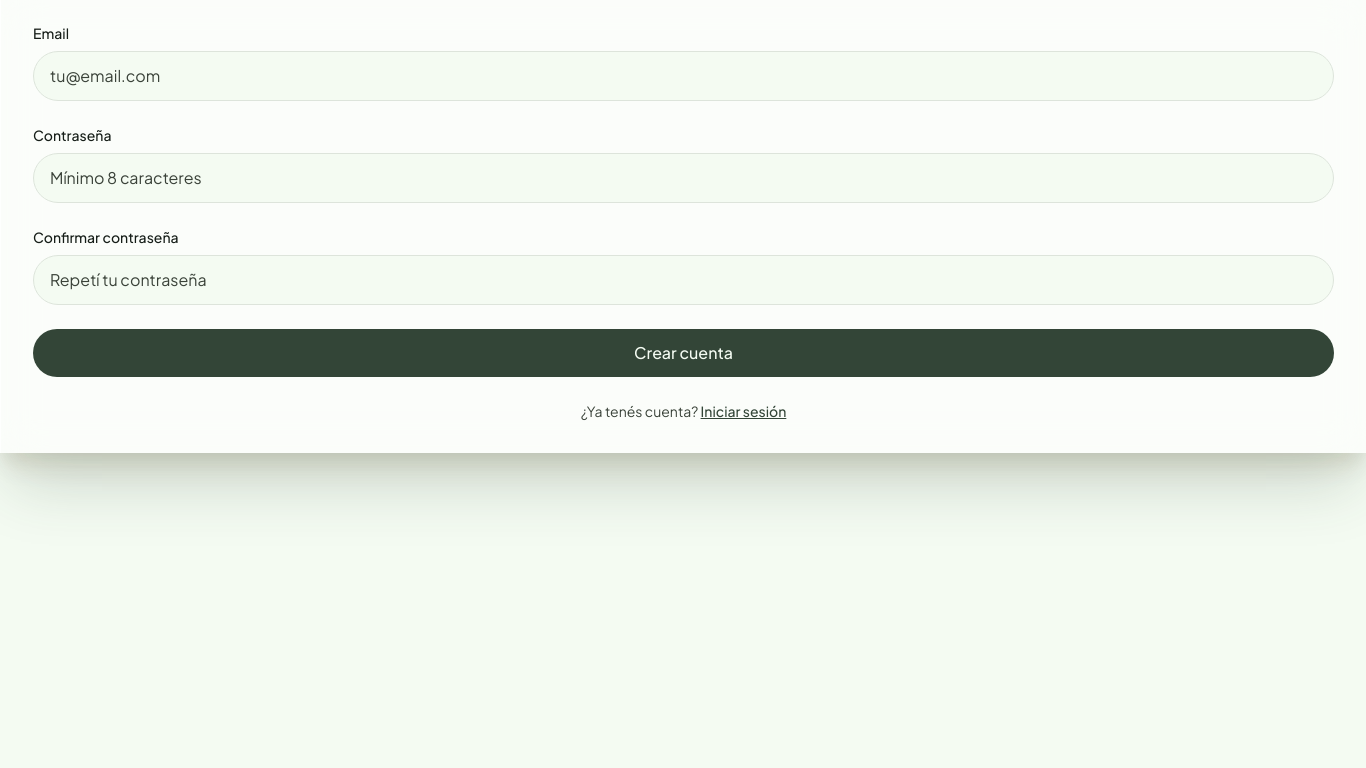
Test: RegisterForm component › shows error when password is shorter than 8 characters
Type "a@b.com" into the field labelled "Email".
click(684, 76); type("a@b.com")  # box [33,51,1334,101]
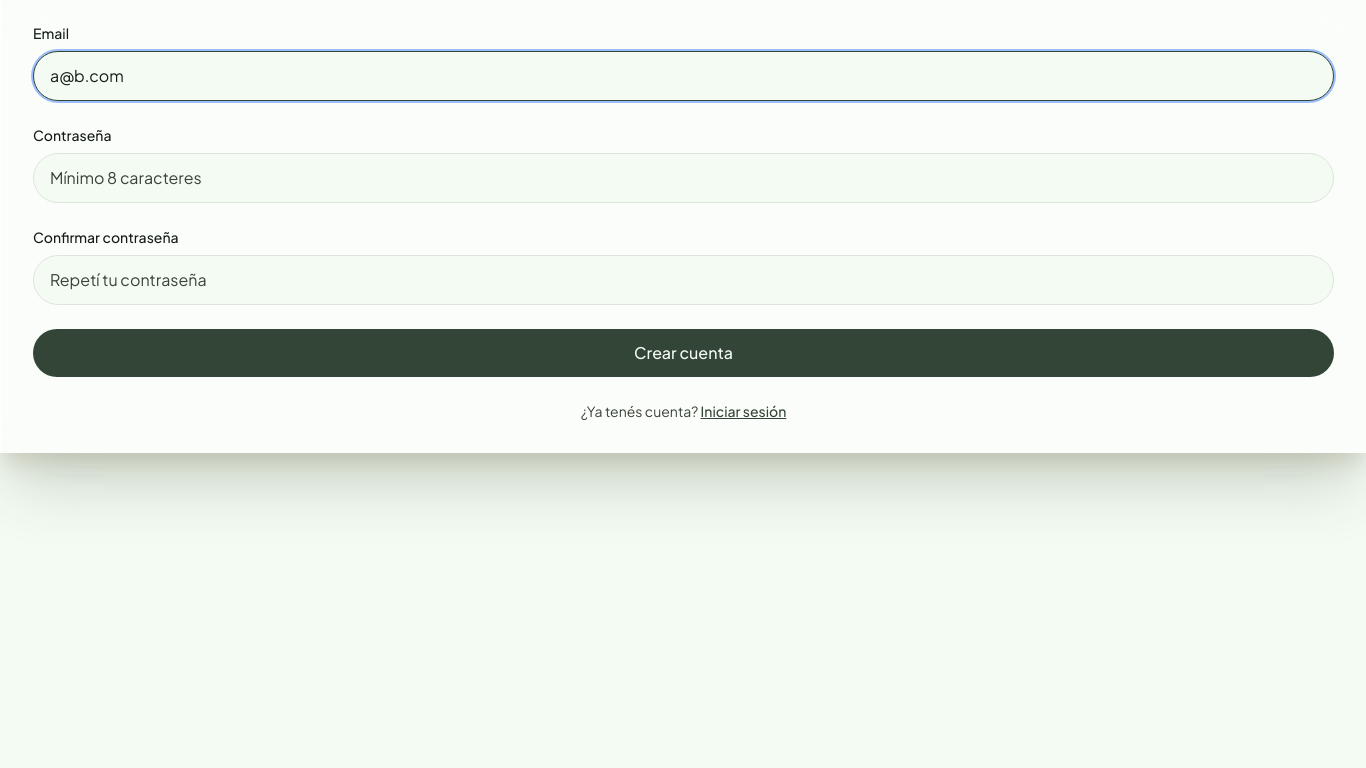
Type "short" into the password field labelled "Contraseña".
click(684, 178); type("short")  # box [33,153,1334,203]
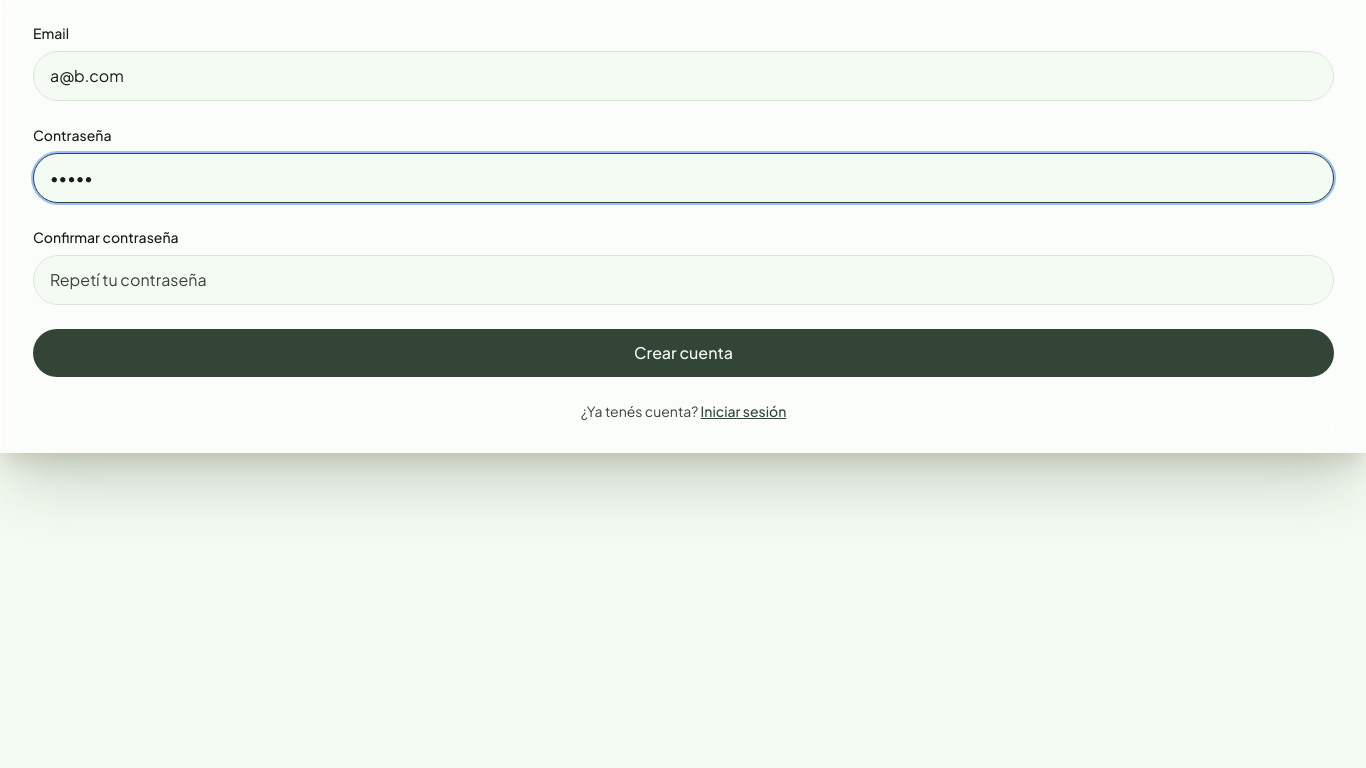
Type "short" into the password field labelled "Confirmar contraseña".
click(684, 280); type("short")  # box [33,255,1334,305]
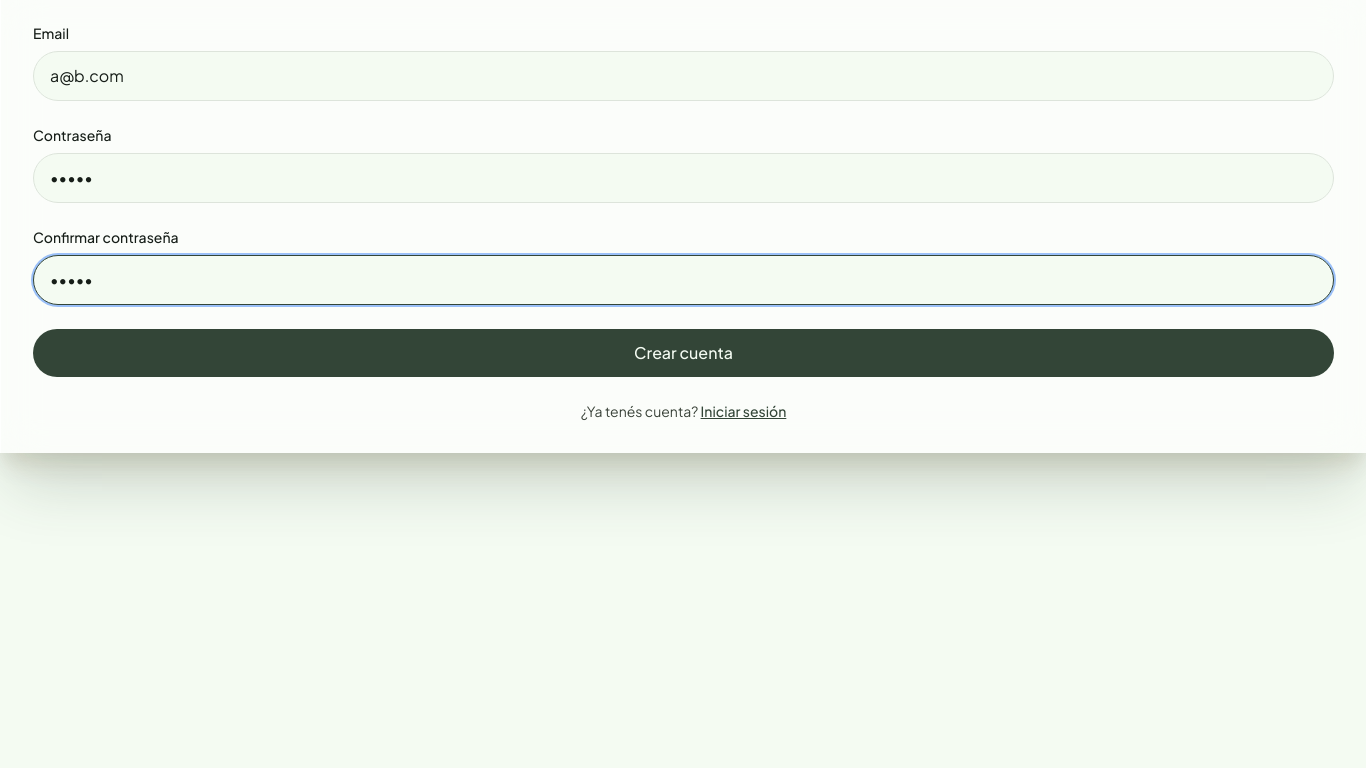
Click the button "Crear cuenta".
click(684, 353)  # box [33,329,1334,377]
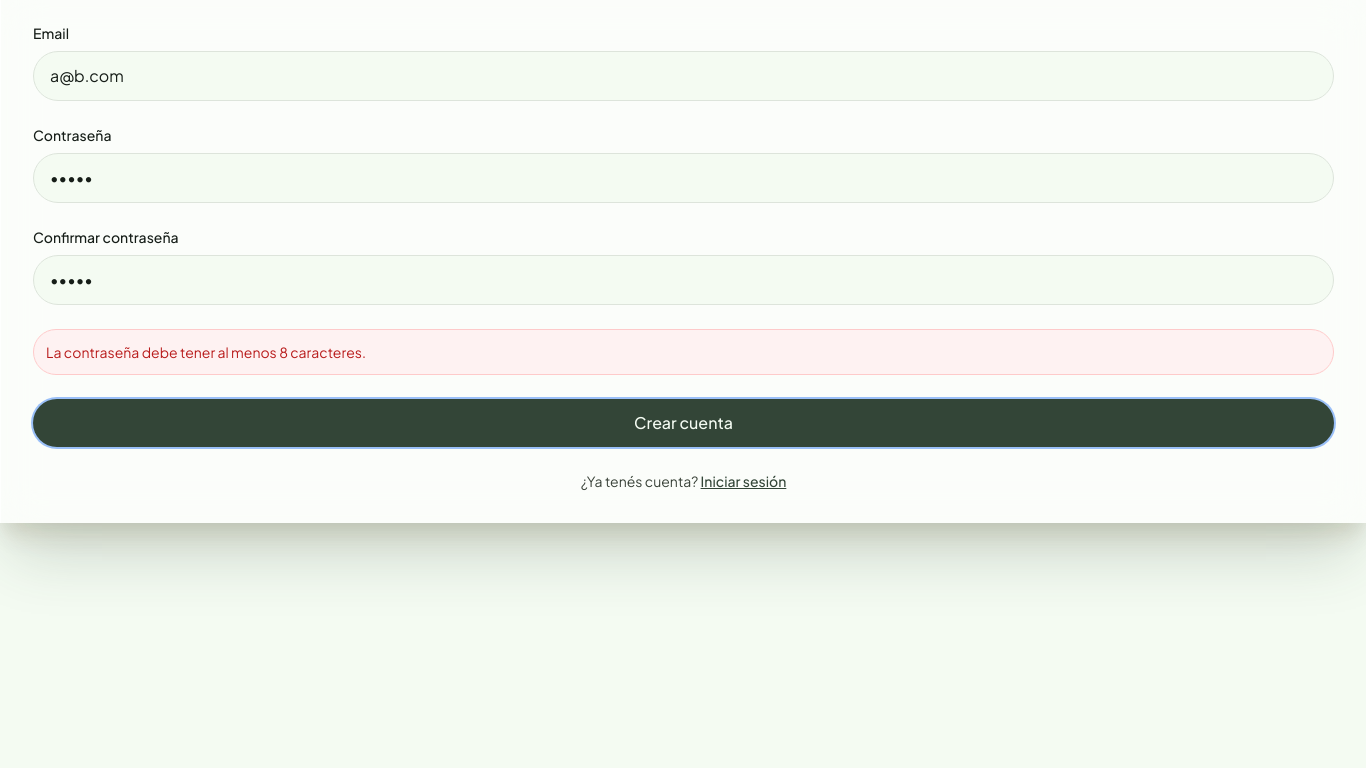
Result: the text "La contraseña debe tener al menos 8 caracteres." is shown at [46,343,366,361]
